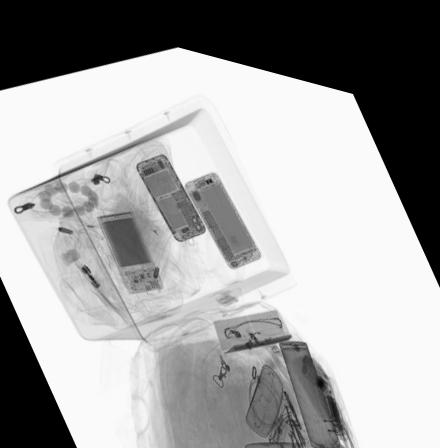Powerbank: (93, 201, 166, 288)
